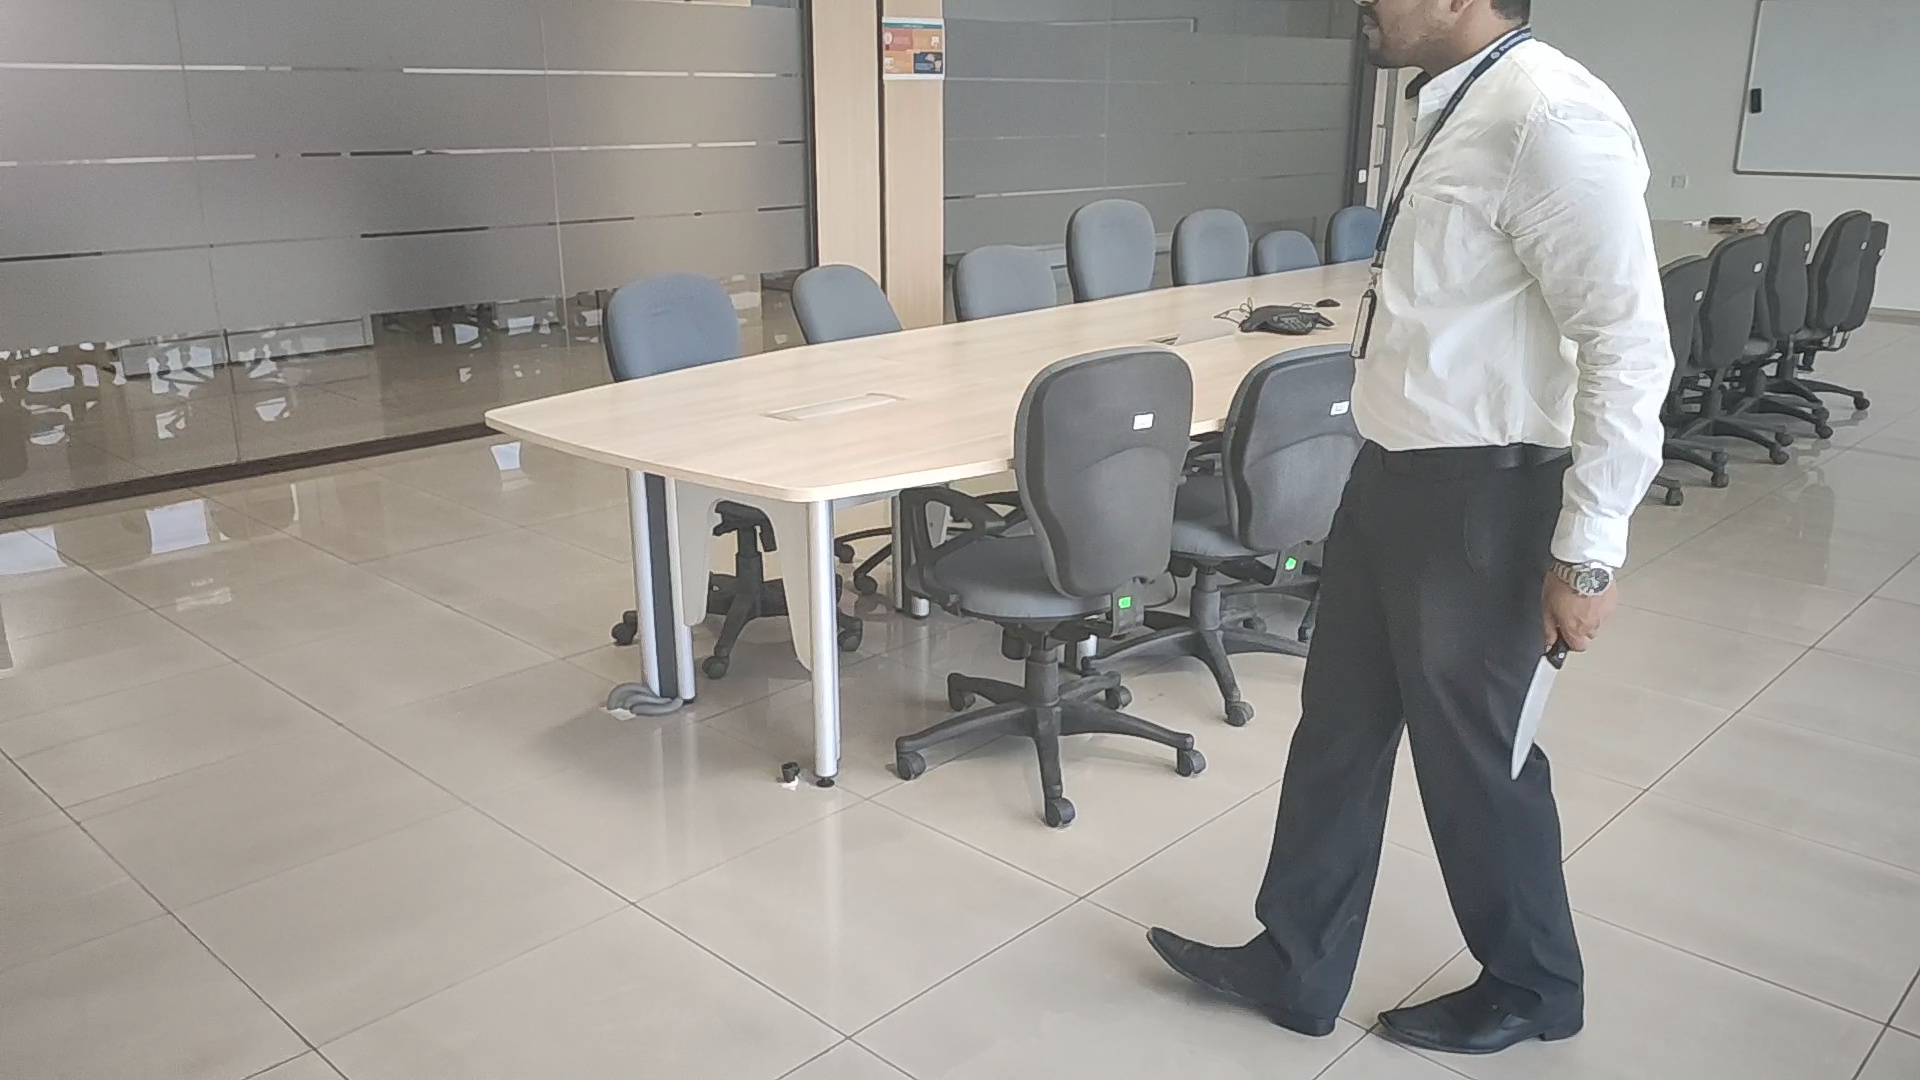knife: (1509, 651, 1561, 781)
